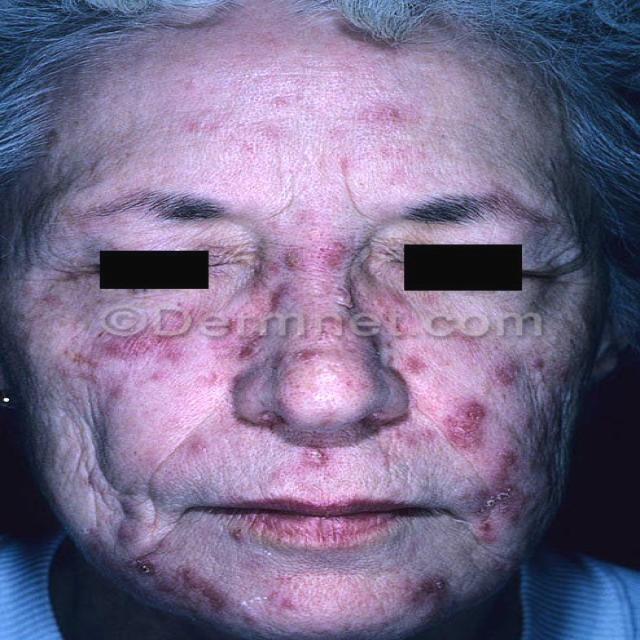skinredness: (55, 293, 277, 554)
